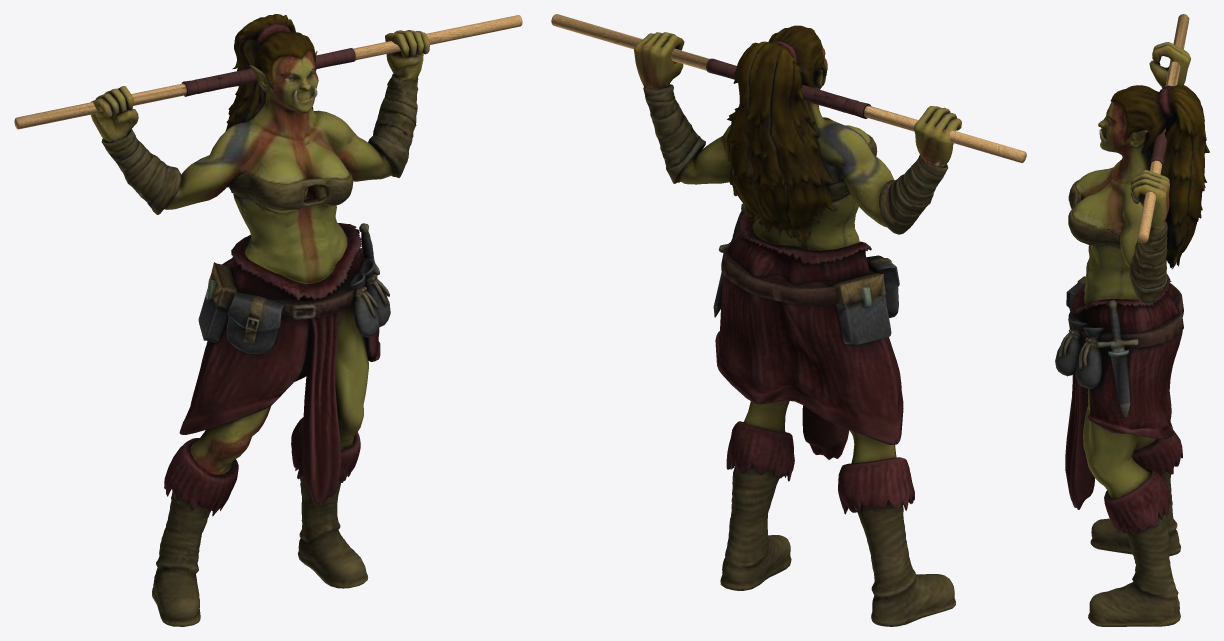
File: MZ4250 - Half Orc Female Barbarian_red_staff.glb
3 views of the same model, side by side, from view 1: azimuth 30°, elevation 25°; view 2: azimuth 150°, elevation 25°; view 3: azimuth 270°, elevation 25° (orthographic). The views are drawn at different scales.
Visible parts, largest first — view 1: Quarterstaff.001; view 2: Quarterstaff.001; view 3: Quarterstaff.001.
Part boxes in pixels (x1,y1,x2,y2): Quarterstaff.001: [14, 14, 522, 626]; Quarterstaff.001: [551, 14, 1026, 626]; Quarterstaff.001: [1055, 14, 1209, 626].
Bounding box in the file's own units: 37.75 × 40.82 × 11.15.
Materials: 2 (2 with a texture image).
